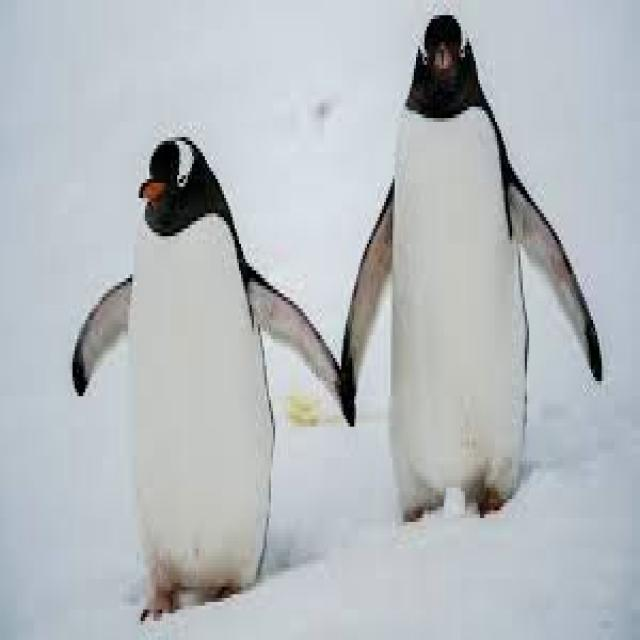penguin: (339, 15, 599, 518), (73, 137, 339, 610)
